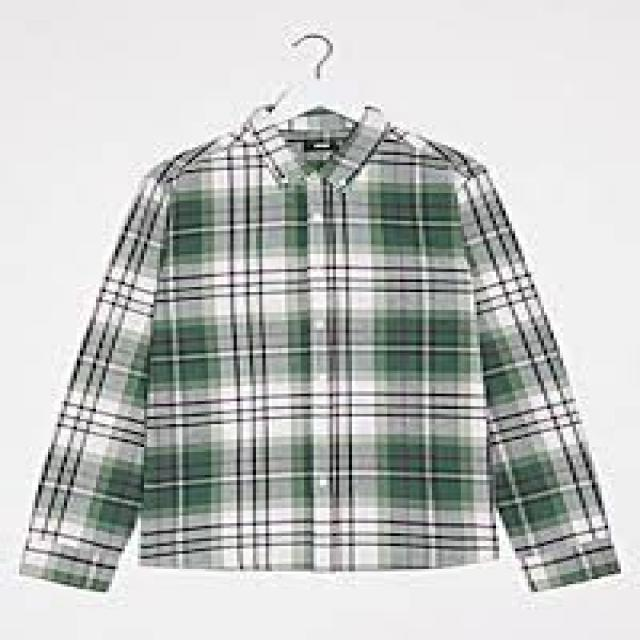plaid: (18, 127, 623, 602)
